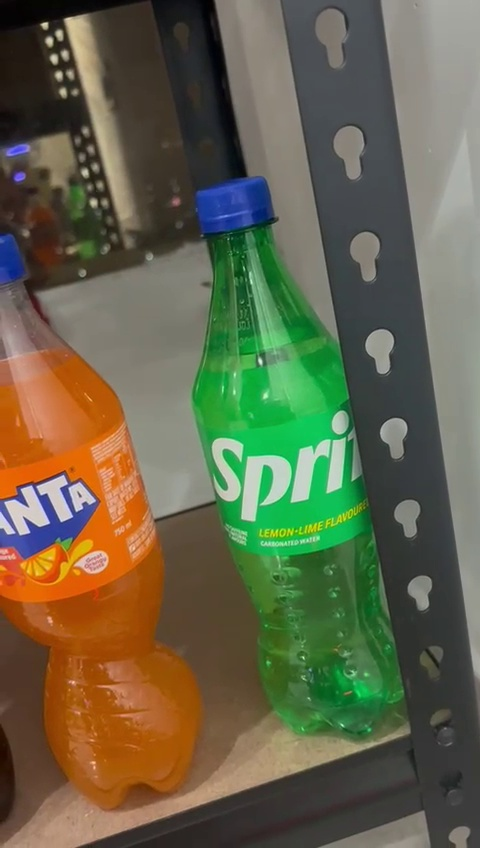Sprit: (185, 174, 411, 730)
